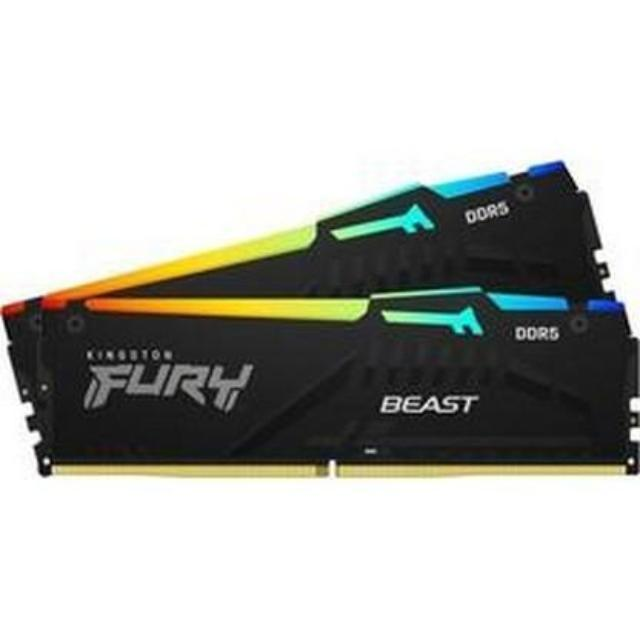RAM: (0, 158, 640, 487)
